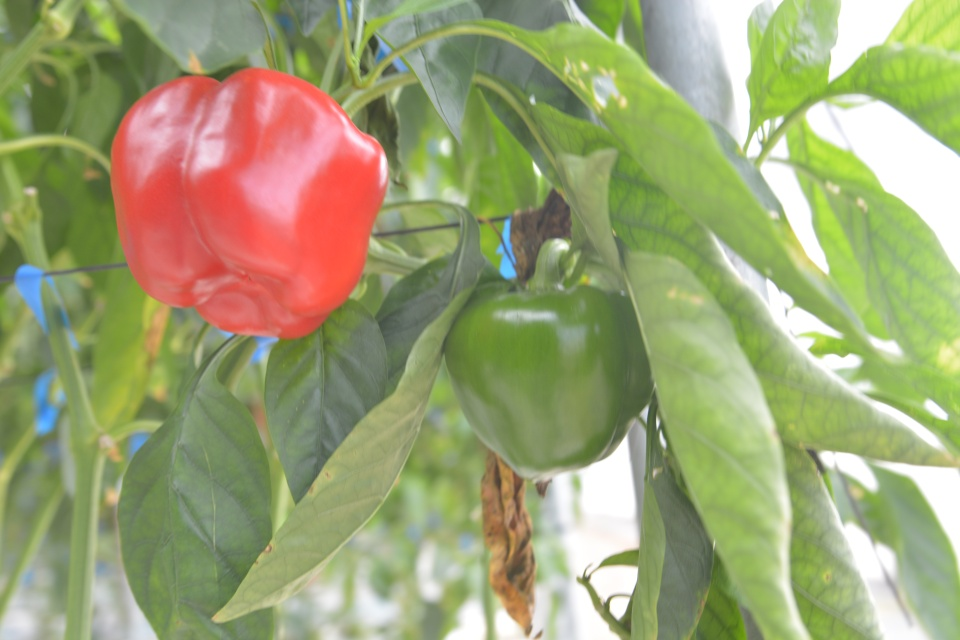fruit: (106, 63, 390, 342), (441, 281, 656, 481)
